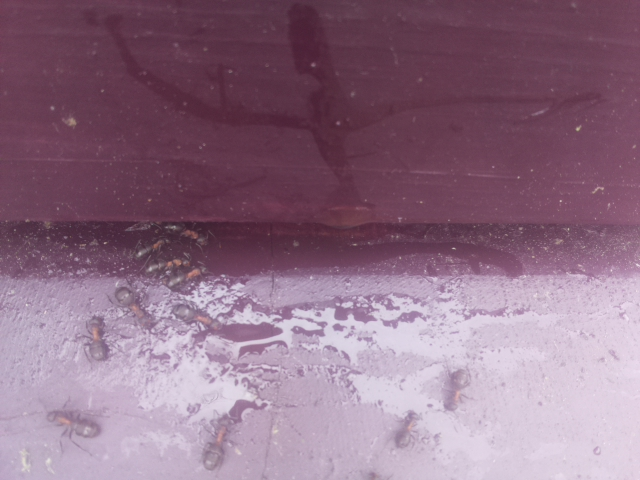ant: (39, 401, 105, 446), (107, 278, 160, 334), (197, 416, 235, 477), (435, 360, 476, 413), (161, 302, 226, 331), (82, 312, 112, 368), (133, 235, 170, 263), (395, 410, 420, 448)
